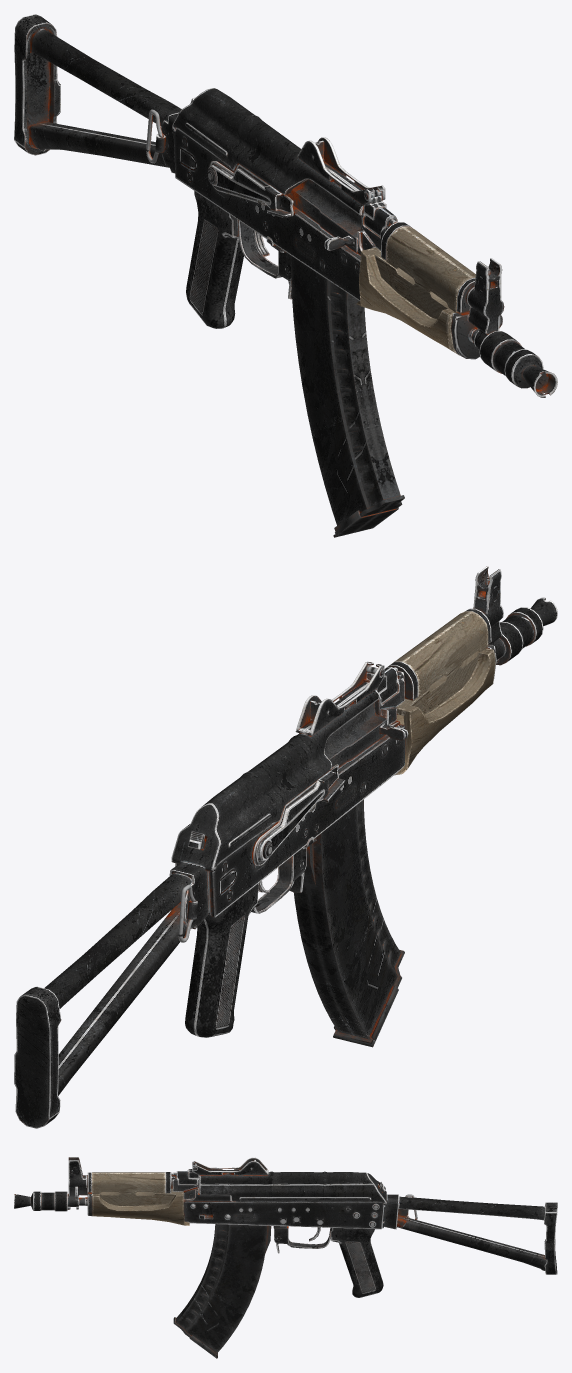
The picture shows the model from 3 angles, top to bottom: view 1: azimuth 30°, elevation 25°; view 2: azimuth 150°, elevation 25°; view 3: azimuth 270°, elevation 25°; orthographic projection. The views are drawn at different scales.
Parts seen in each view (by area): view 1: SM_AK74U; view 2: SM_AK74U; view 3: SM_AK74U.
Part boxes in pixels (x1,y1,x2,y2): SM_AK74U: (14,14,557,537); SM_AK74U: (14,566,557,1128); SM_AK74U: (14,1157,557,1358).
Bounding box in the file's own units: 7.85 × 39.14 × 98.87.
